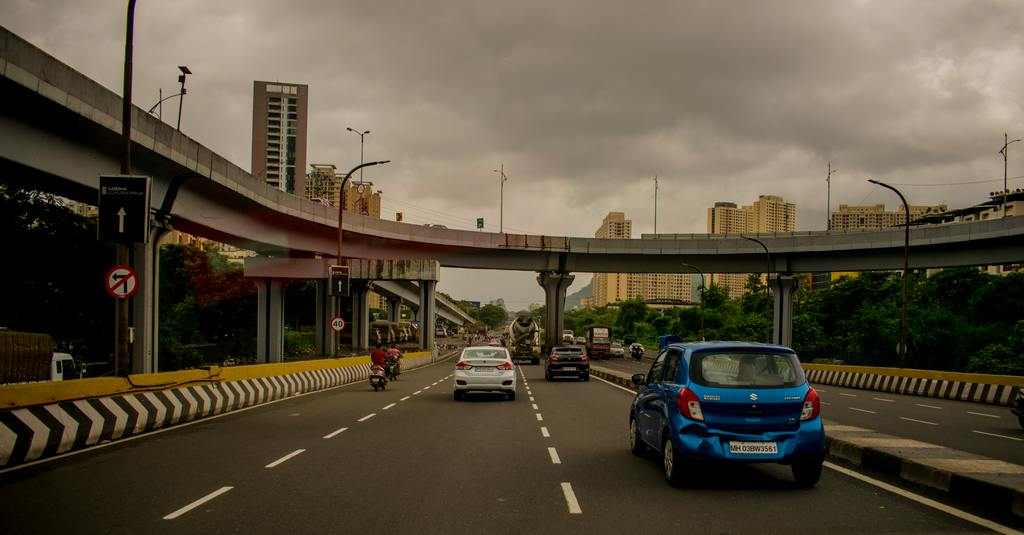number_plate: (726, 436, 782, 461)
